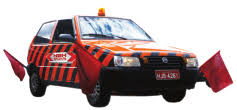car: (25, 9, 201, 105)
car_plate: (154, 70, 181, 80)
